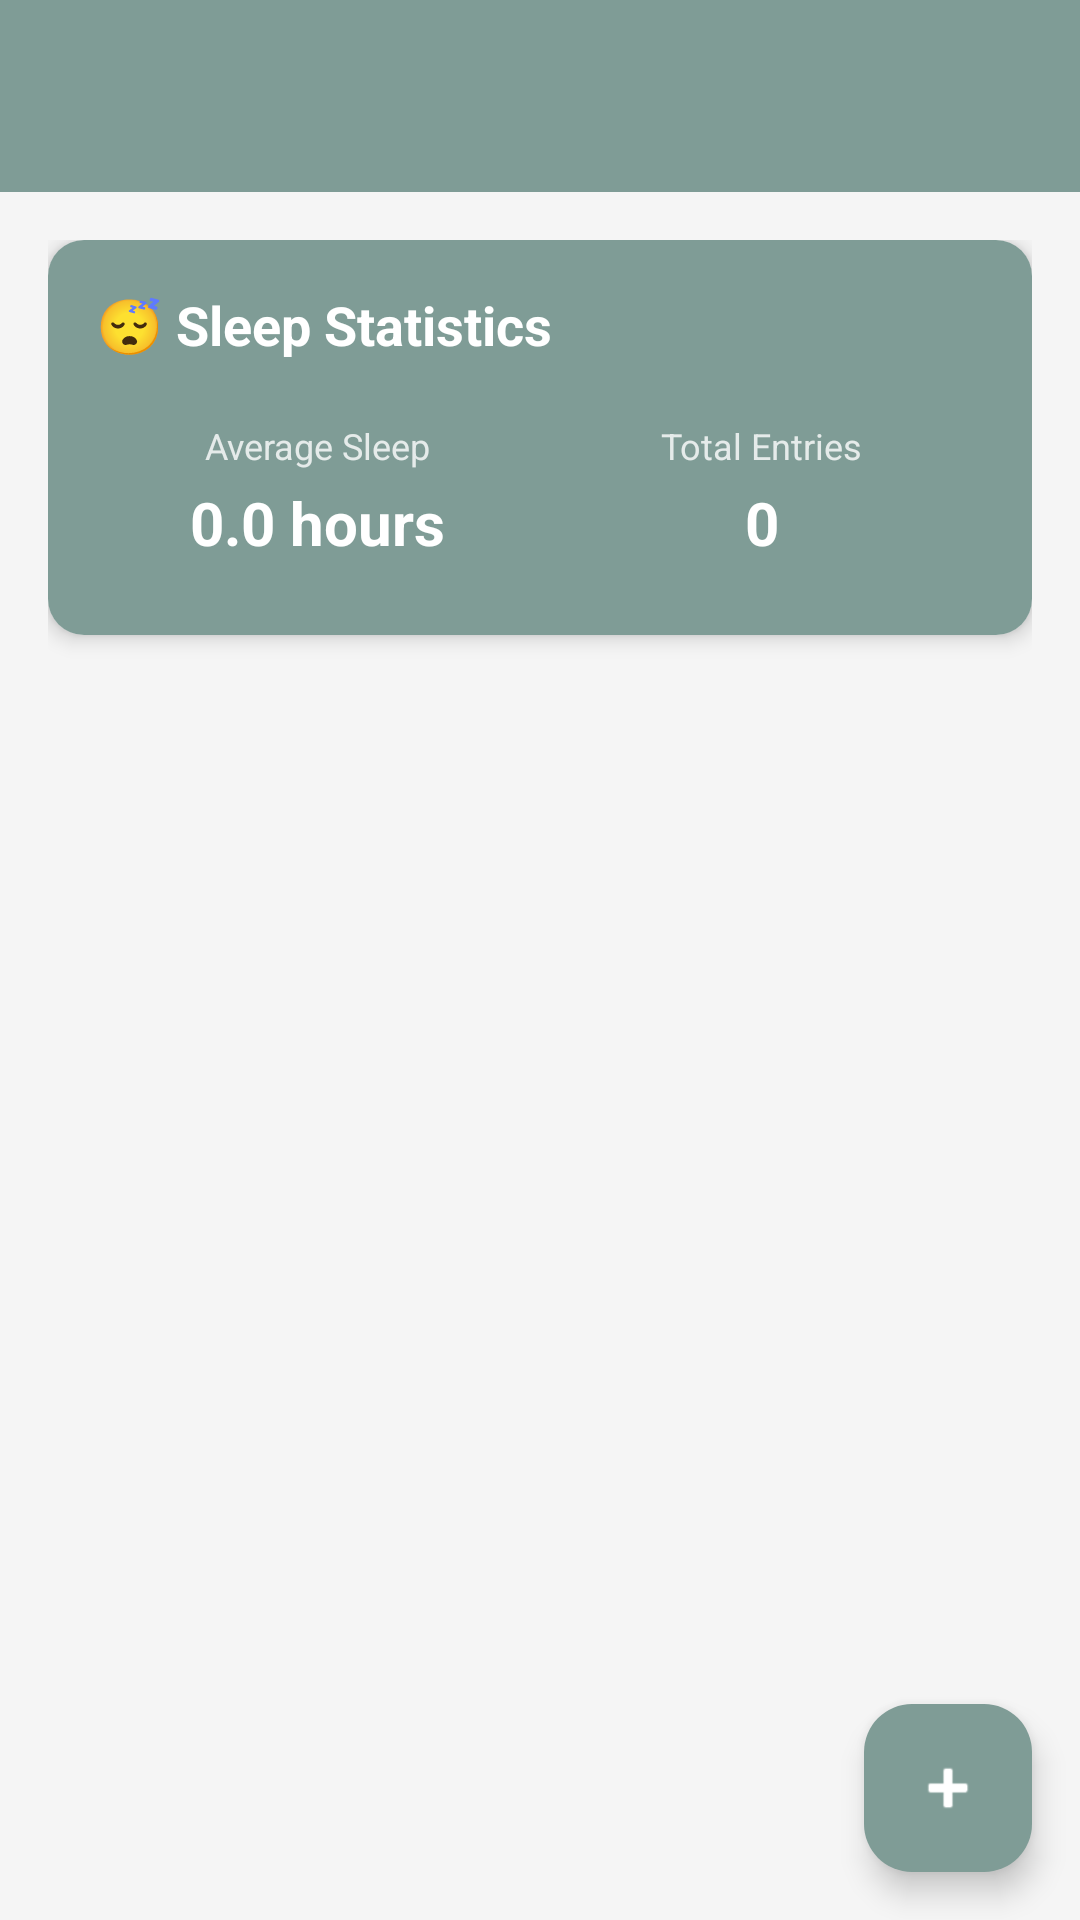

Screen size 1080px×1920px. Icon name, then its center in pixels as (x=x, y=y):
Add Sleep Entry: (x=948, y=1788)
